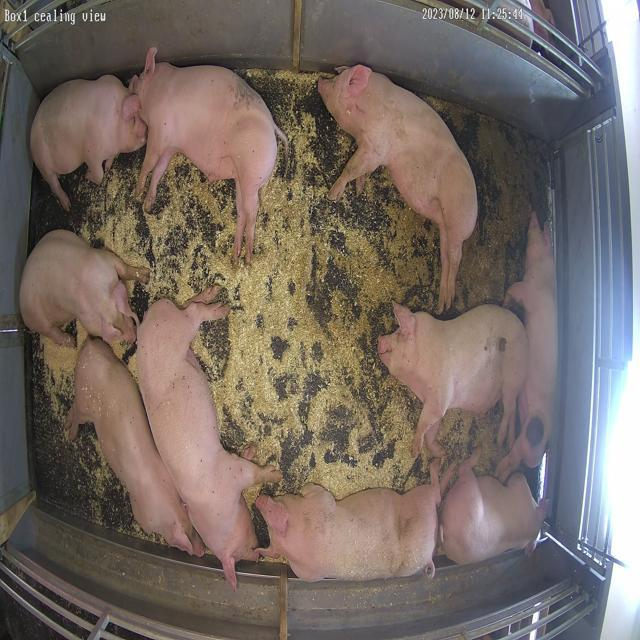Dirt: (292, 127, 440, 446), (425, 96, 550, 320), (441, 412, 498, 472)
Pig: (137, 288, 282, 590), (319, 64, 478, 312), (129, 47, 288, 262), (66, 338, 204, 556), (257, 465, 454, 582), (499, 212, 558, 480), (30, 75, 146, 210), (19, 230, 149, 345), (441, 458, 545, 566)
